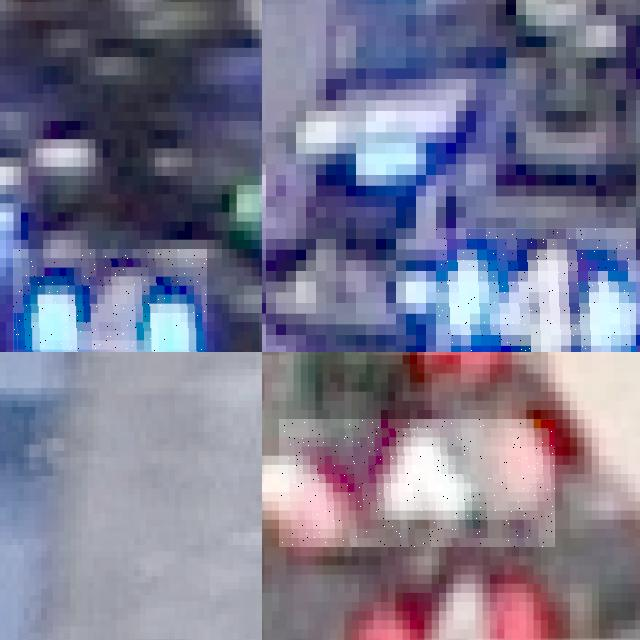B4: (436, 228, 636, 352), (13, 249, 206, 352)
R4: (279, 419, 555, 547), (359, 565, 548, 640)
